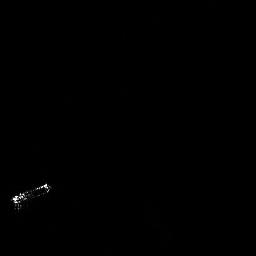ship: (11, 183, 52, 211)
